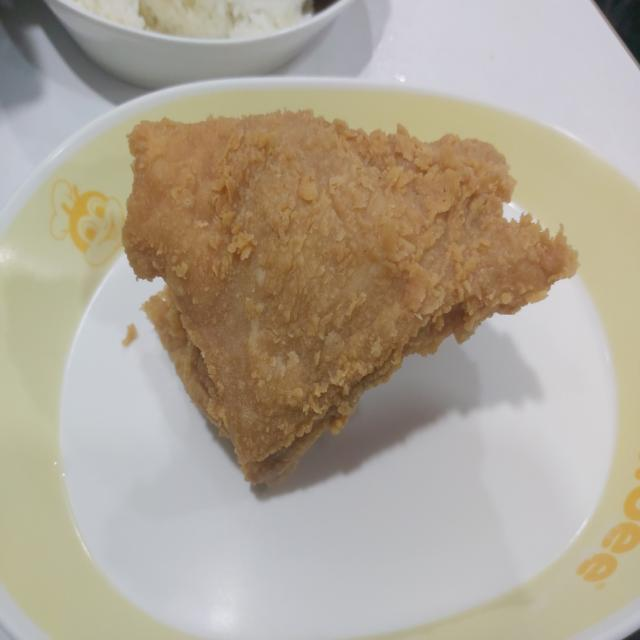Chicken -Fried Chicken-: (111, 101, 584, 494)
